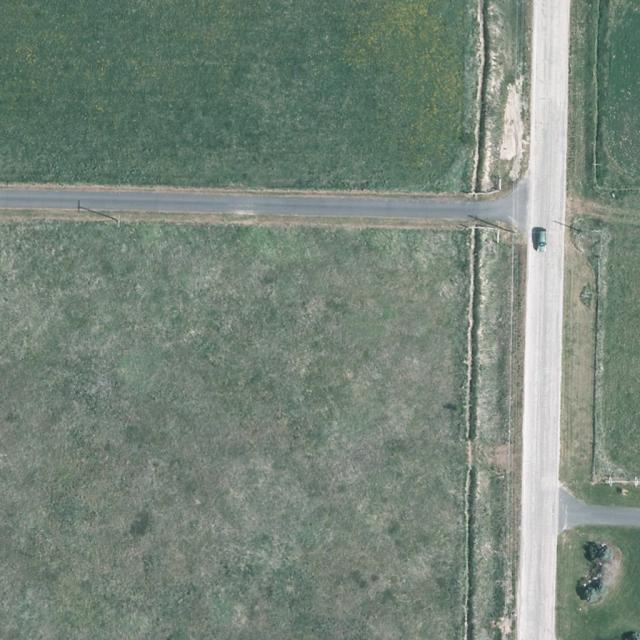vehicle: (536, 229, 546, 252)
